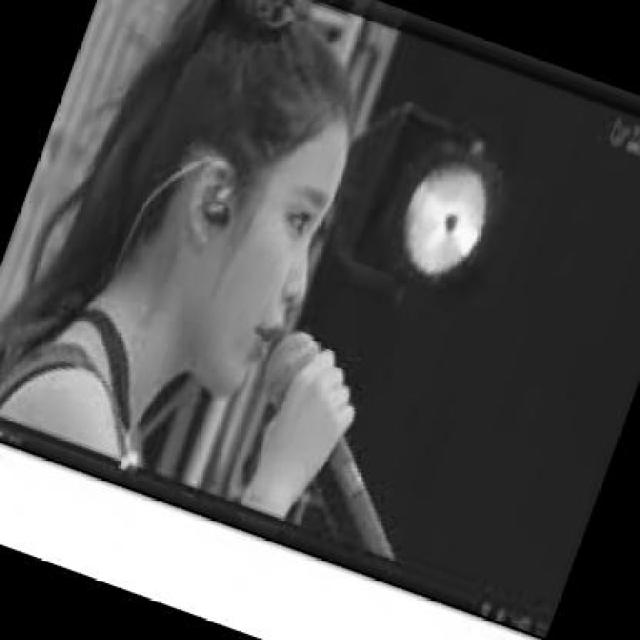earphone: (193, 170, 245, 231)
